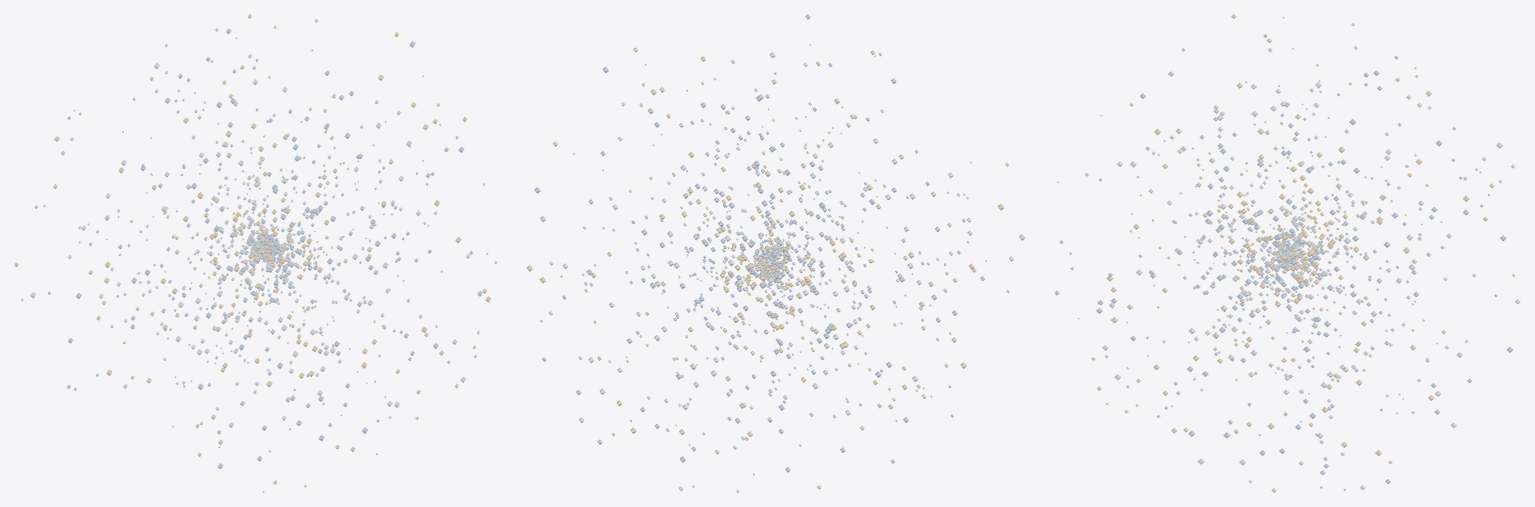
The picture shows the model from 3 angles, left to right: view 1: azimuth 30°, elevation 25°; view 2: azimuth 150°, elevation 25°; view 3: azimuth 270°, elevation 25°; orthographic projection.
Size of the model in its own units: 4.98 by 4.95 by 4.82.
